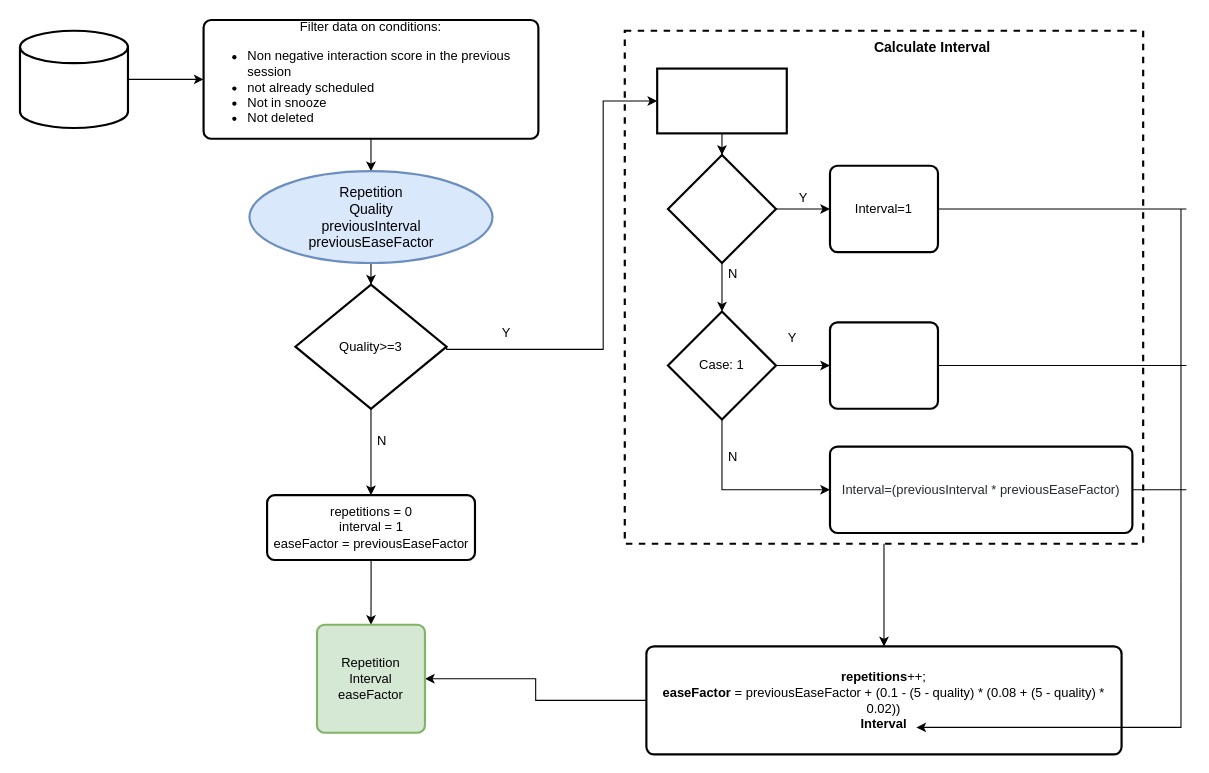
The diagram is 1209 pixels wide and 773 high, and some of its shapes have lost their labels. Here are the shapes that lost their labels. From the top down, the centre of each, then its label:
pixel 73 79: DB
pixel 721 100: Repetition?
pixel 721 208: Case: 0
pixel 883 365: Interval=3
